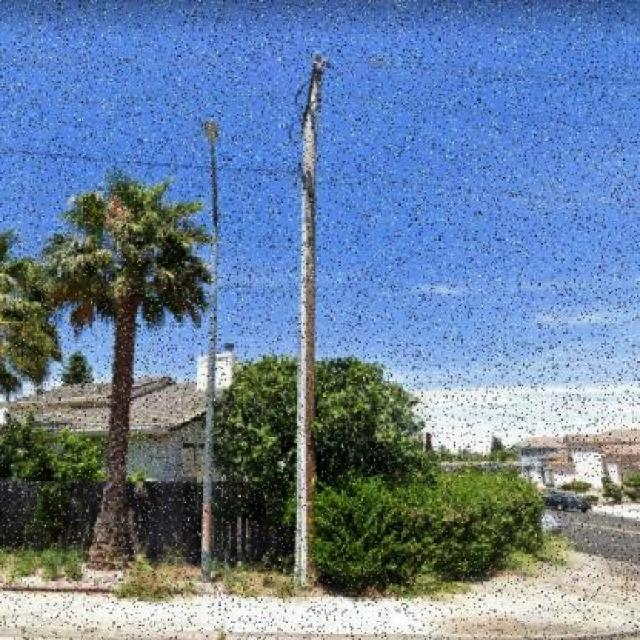pole: (291, 52, 328, 585)
wire: (0, 143, 304, 178)
